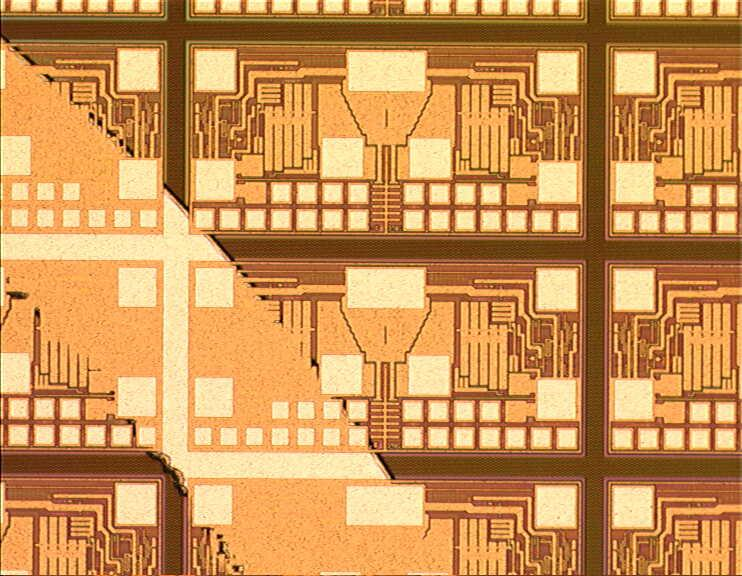BLOCK ETCH: (2, 35, 457, 576)
